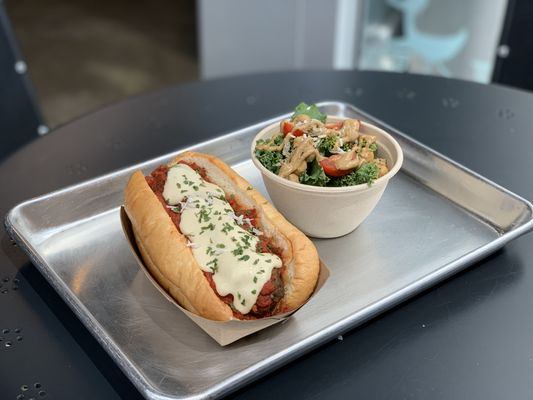sushi: (251, 110, 404, 239)
